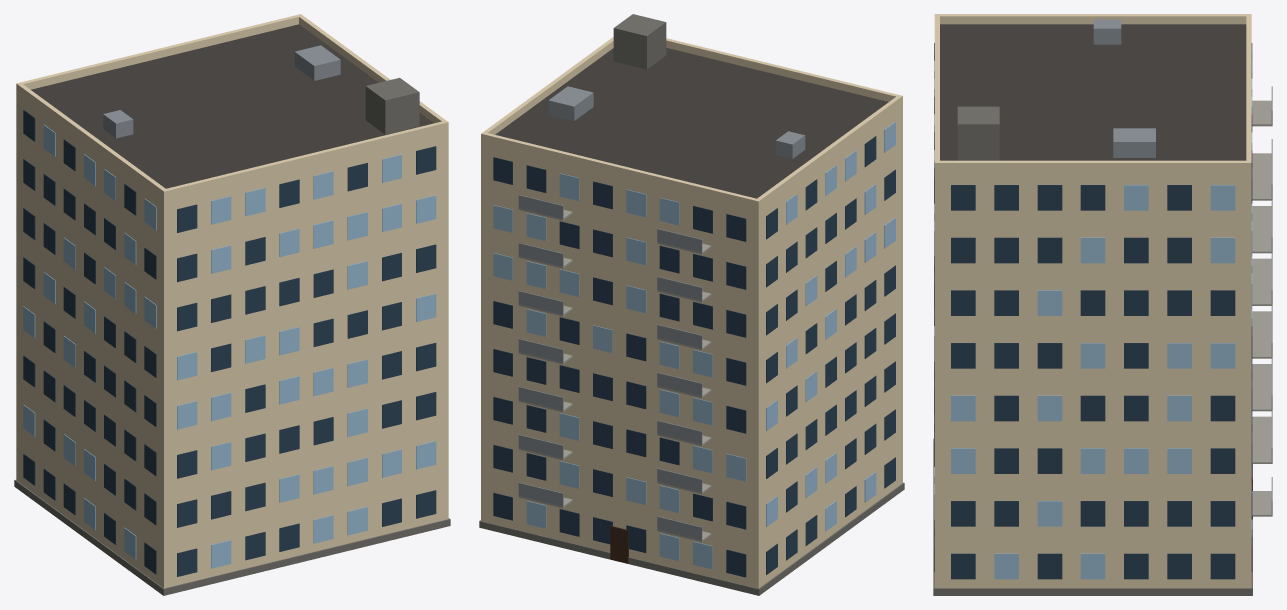
File: bld_apart_b.glb
The picture shows the model from 3 angles, left to right: view 1: azimuth 30°, elevation 25°; view 2: azimuth 150°, elevation 25°; view 3: azimuth 270°, elevation 25°; orthographic projection. The views are drawn at different scales.
Visible parts, largest first — view 1: bld_apart_b__mesh; view 2: bld_apart_b__mesh; view 3: bld_apart_b__mesh.
Boxes of the visible parts, <box> form: bld_apart_b__mesh: <box>14,14,450,595</box>; bld_apart_b__mesh: <box>479,14,904,595</box>; bld_apart_b__mesh: <box>933,14,1272,595</box>.
Bounding box in the file's own units: 20.16 × 28.9 × 19.28.
